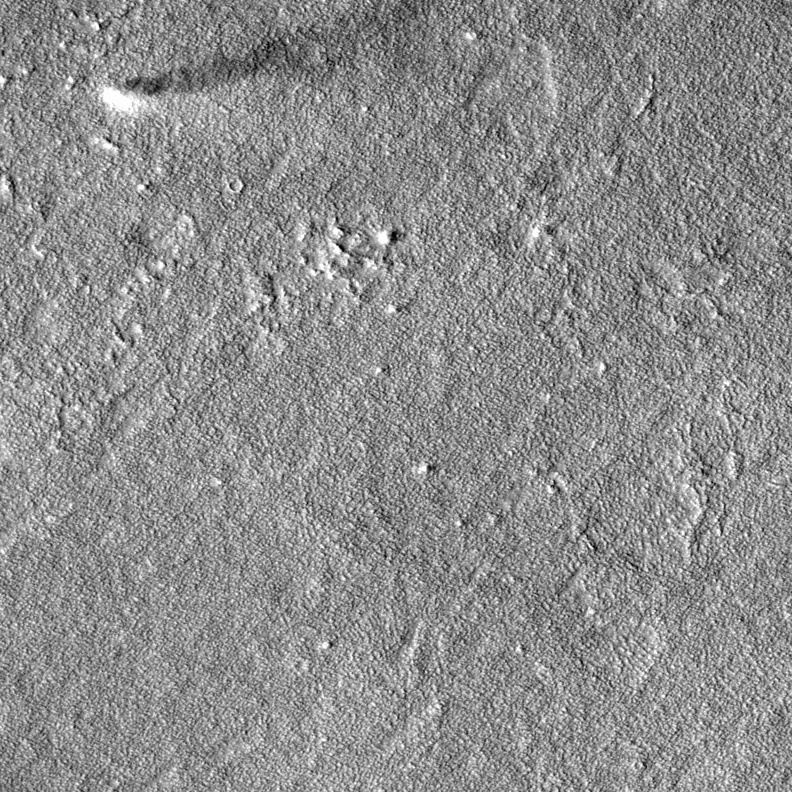dust_devil: (97, 25, 306, 117)
